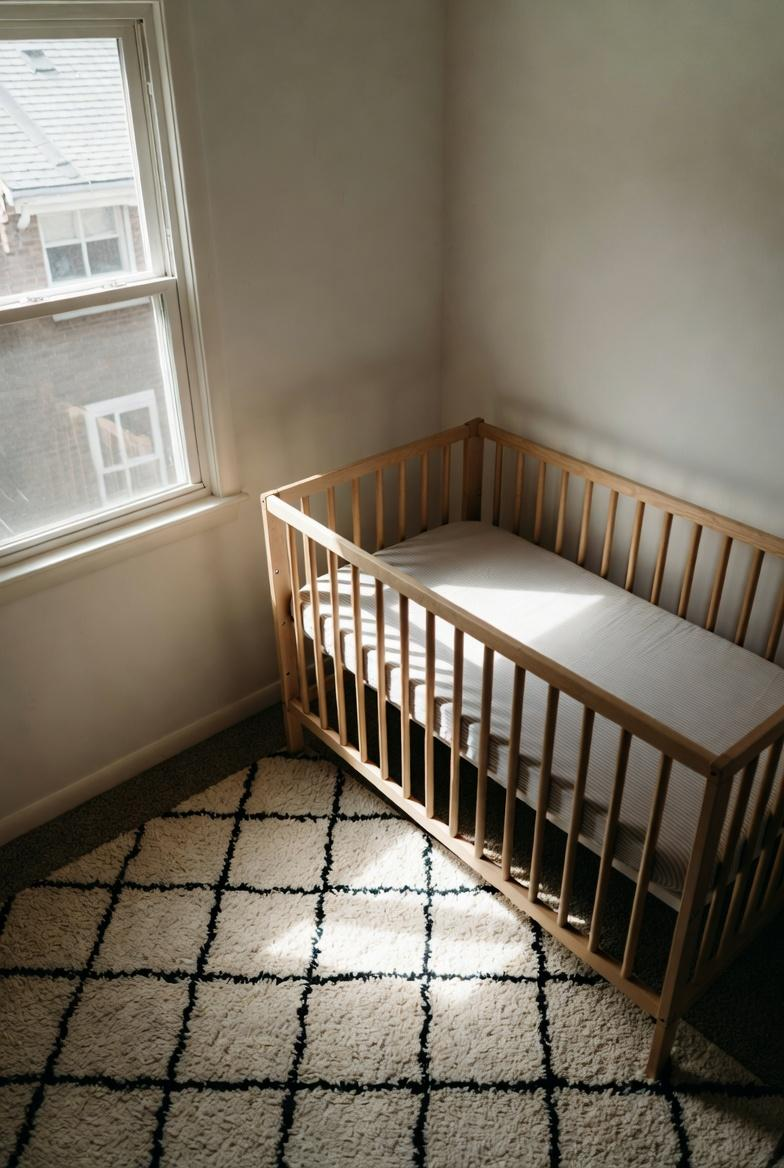crib: (252, 392, 784, 1092)
